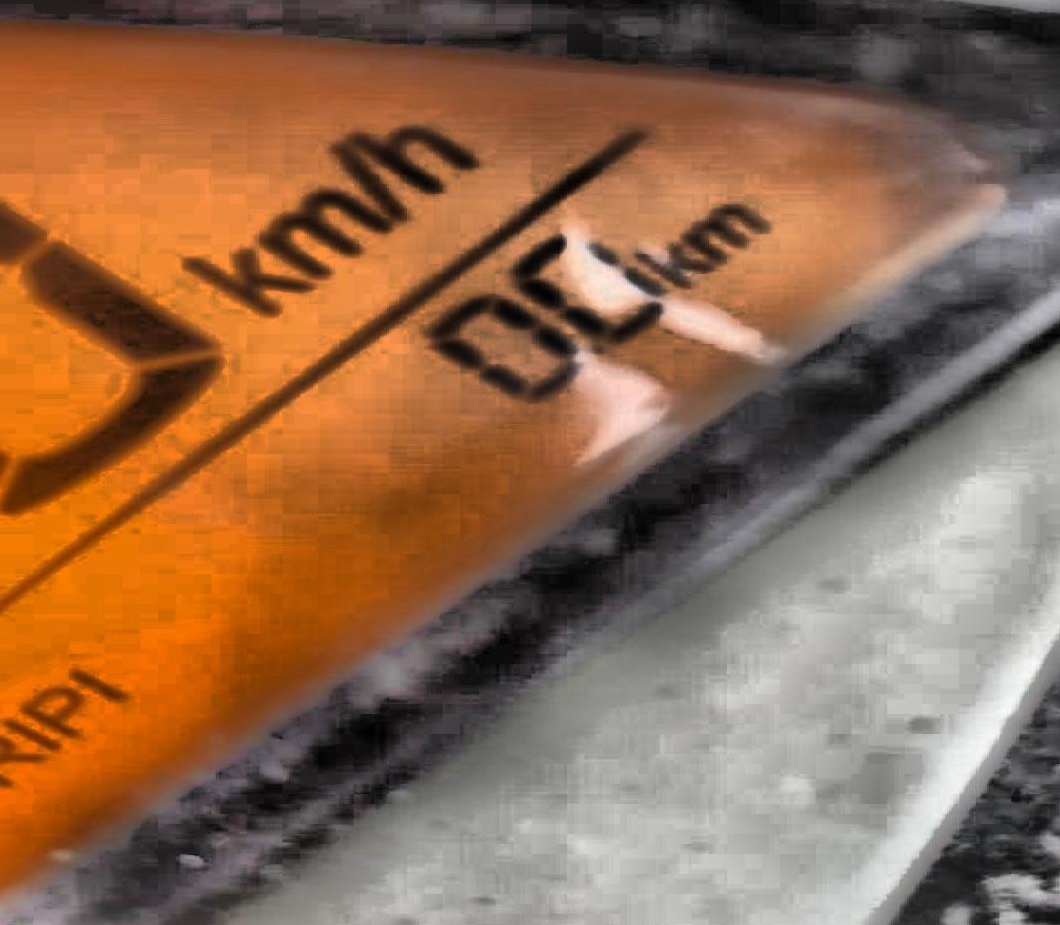0: (511, 231, 671, 341), (422, 296, 582, 400)
1: (55, 660, 140, 707)
X: (251, 191, 393, 276), (349, 116, 482, 193), (169, 248, 309, 318), (320, 141, 420, 220), (684, 202, 773, 261), (627, 242, 716, 287), (17, 685, 91, 735), (0, 716, 58, 752)
